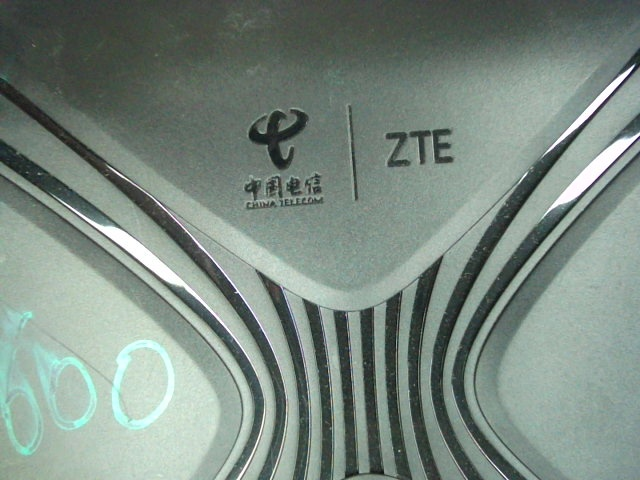AX_ZTEChinaTelecom: (225, 103, 460, 212)
